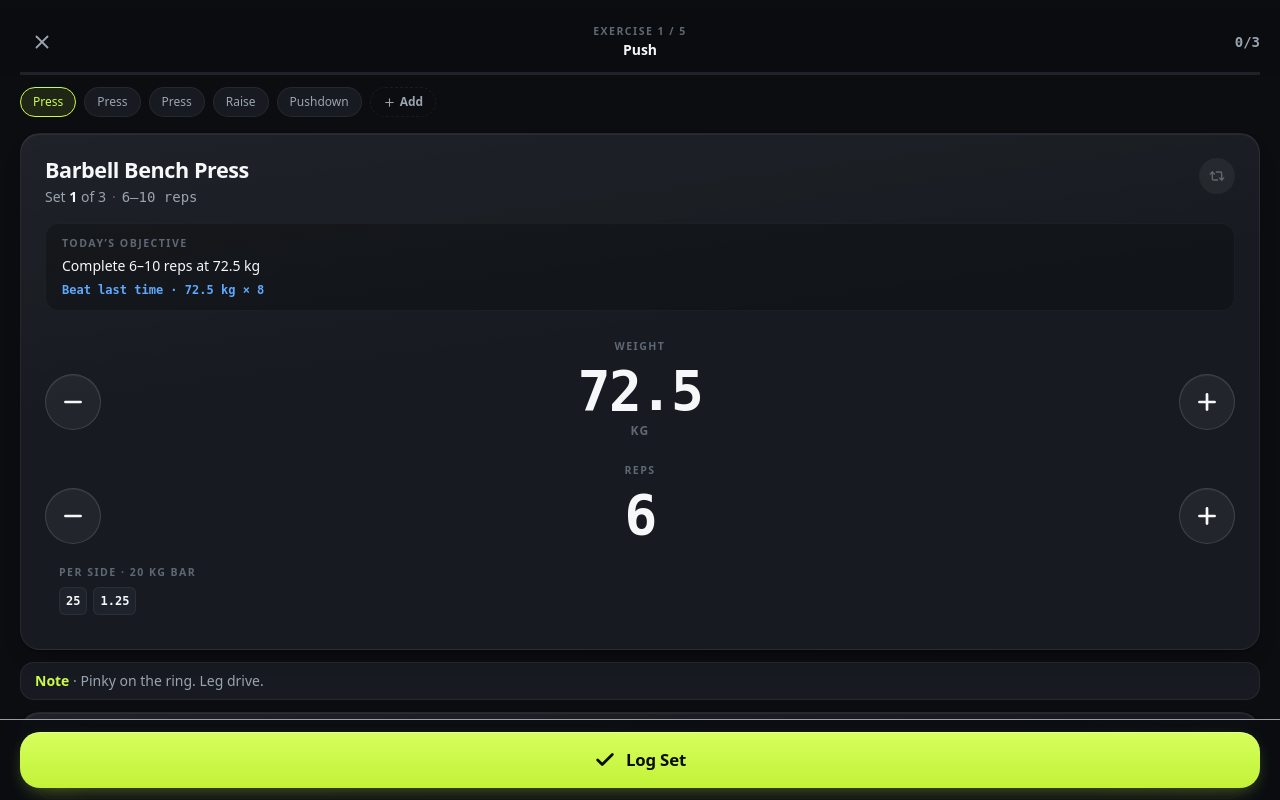
GymMode integration › logs a set and advances to the next set
Expected: the text "Set 1 of 3·6–10 reps" is shown, [45,187,198,206]
Click the button "Log Set" at (640, 760), box [20,732,1260,788]
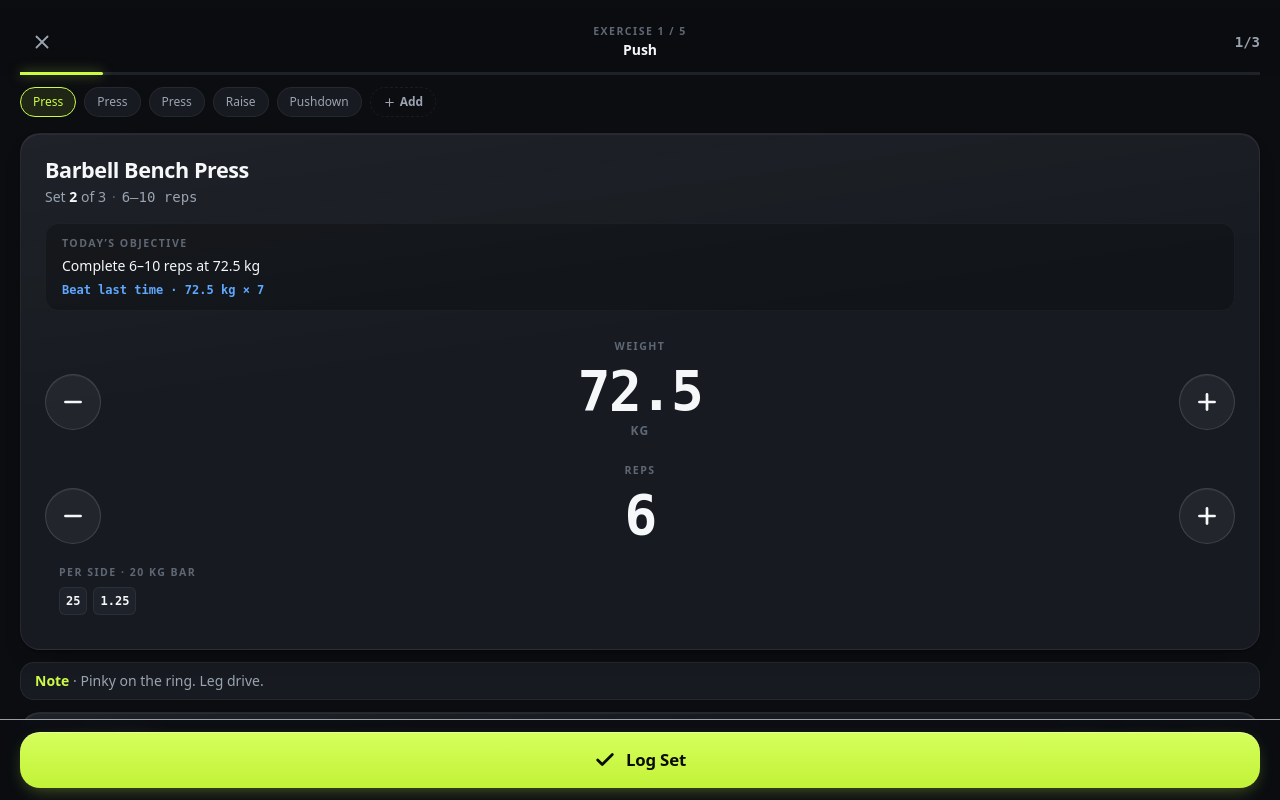
Expected: the text "Set 2 of 3·6–10 reps" is shown, [45,187,198,206]
